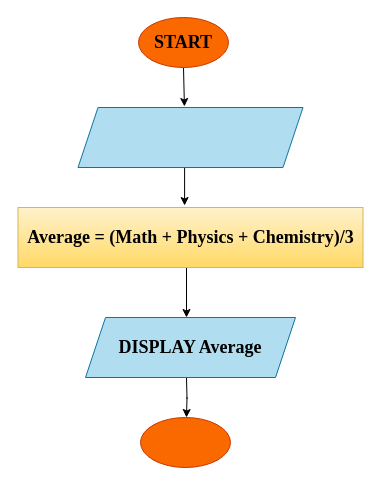
Some shapes in this 380 by 485 pixel diagram are drawn without their labels. The shapes that lost their labels are listed below. From the top down, each one's centre as x and y in pixels, then its label:
the point at 190,137: INPUT Math, Physics, Chemistry
the point at 185,442: STOP
